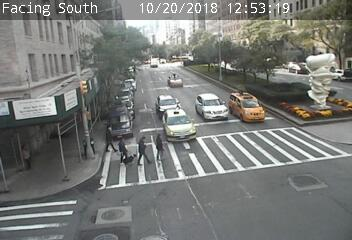car: (164, 112, 194, 142), (231, 95, 263, 123), (198, 96, 226, 120), (157, 95, 176, 111), (168, 70, 184, 86)
